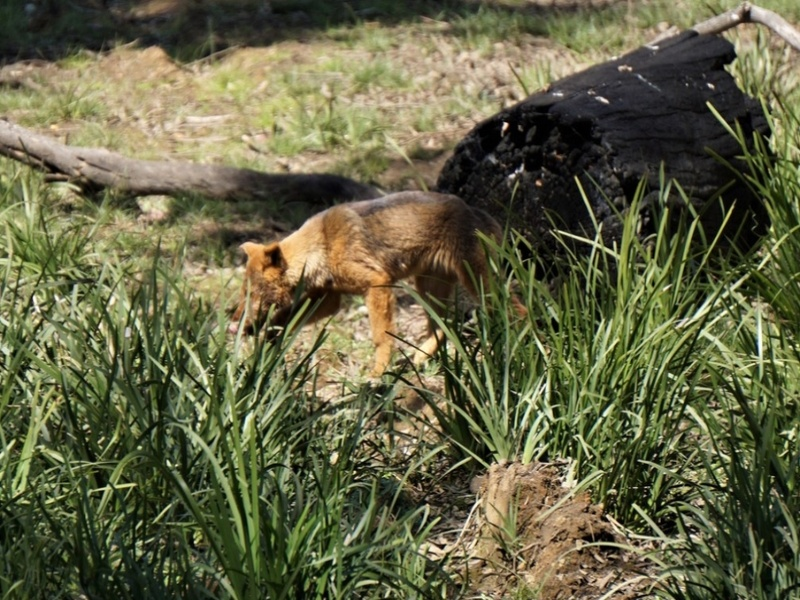dog: (224, 192, 527, 398)
